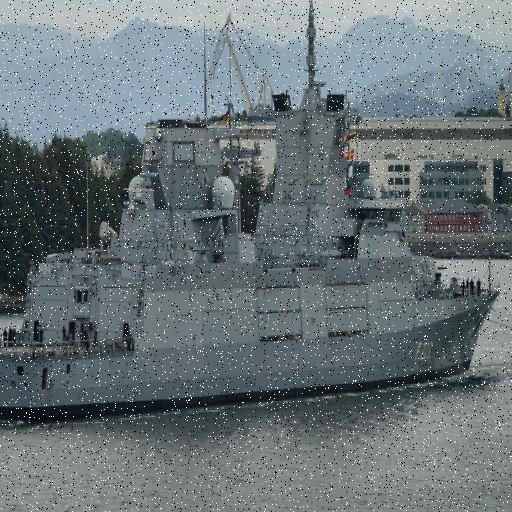Fragata: (1, 1, 512, 454)
